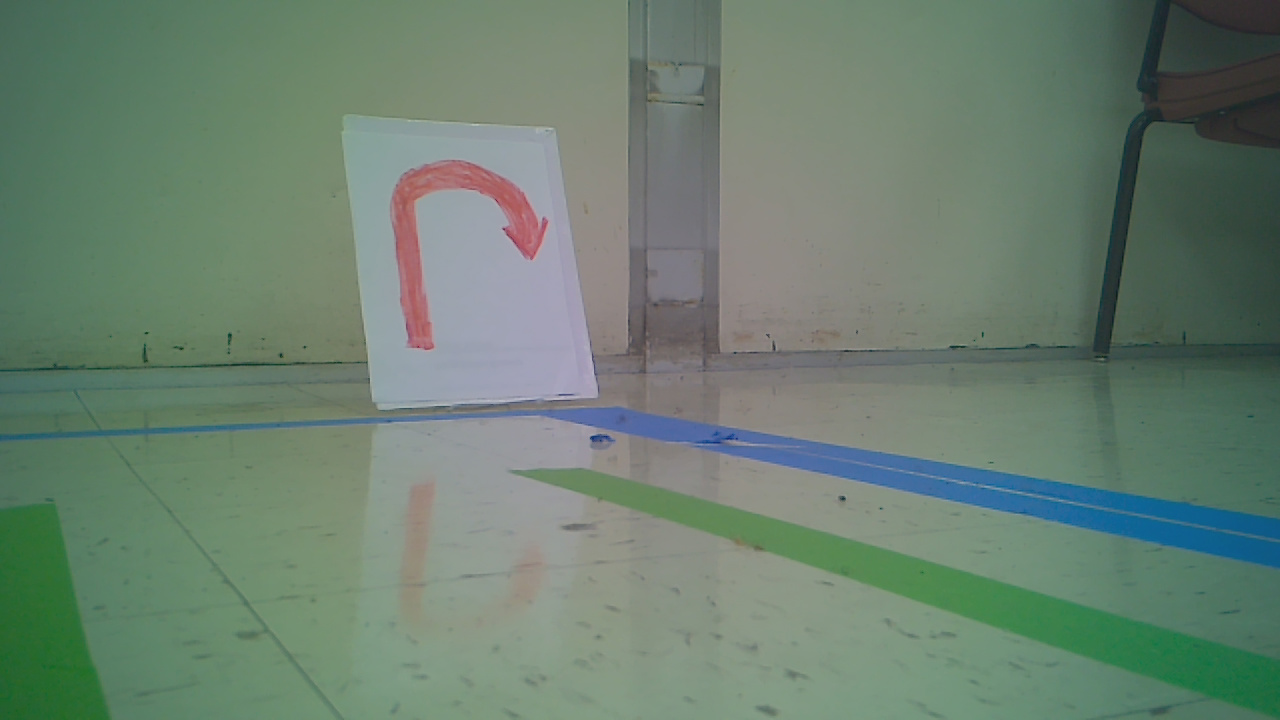greenline: (525, 468, 1280, 695)
uturn: (389, 147, 556, 352)
